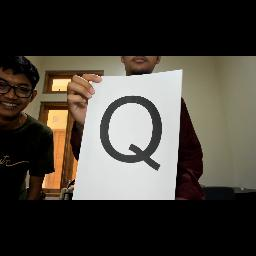q: (91, 90, 169, 174)
